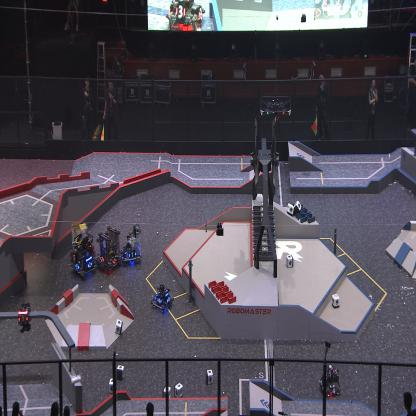car: (95, 224, 122, 275), (71, 229, 98, 279), (68, 221, 90, 272), (119, 223, 143, 265), (318, 364, 341, 399), (151, 282, 174, 314)
